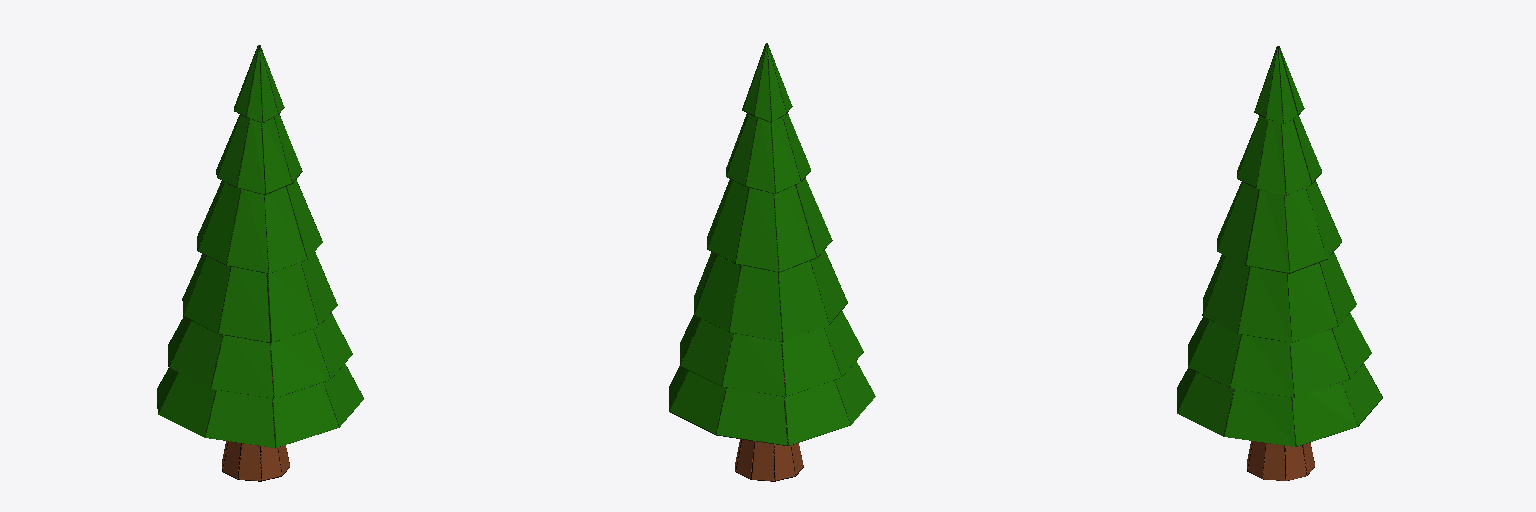
3 renders of one model, left to right at view 1: azimuth 30°, elevation 25°; view 2: azimuth 150°, elevation 25°; view 3: azimuth 270°, elevation 25°, orthographic.
Parts seen in each view (by area): view 1: Cylinder; view 2: Cylinder; view 3: Cylinder.
Boxes of the visible parts, <box> form: Cylinder: <box>157,45,363,481</box>; Cylinder: <box>669,43,875,481</box>; Cylinder: <box>1177,46,1382,480</box>.
Bounding box in the file's own units: 2.31 × 5.12 × 2.28.
2 materials, 1 textured.